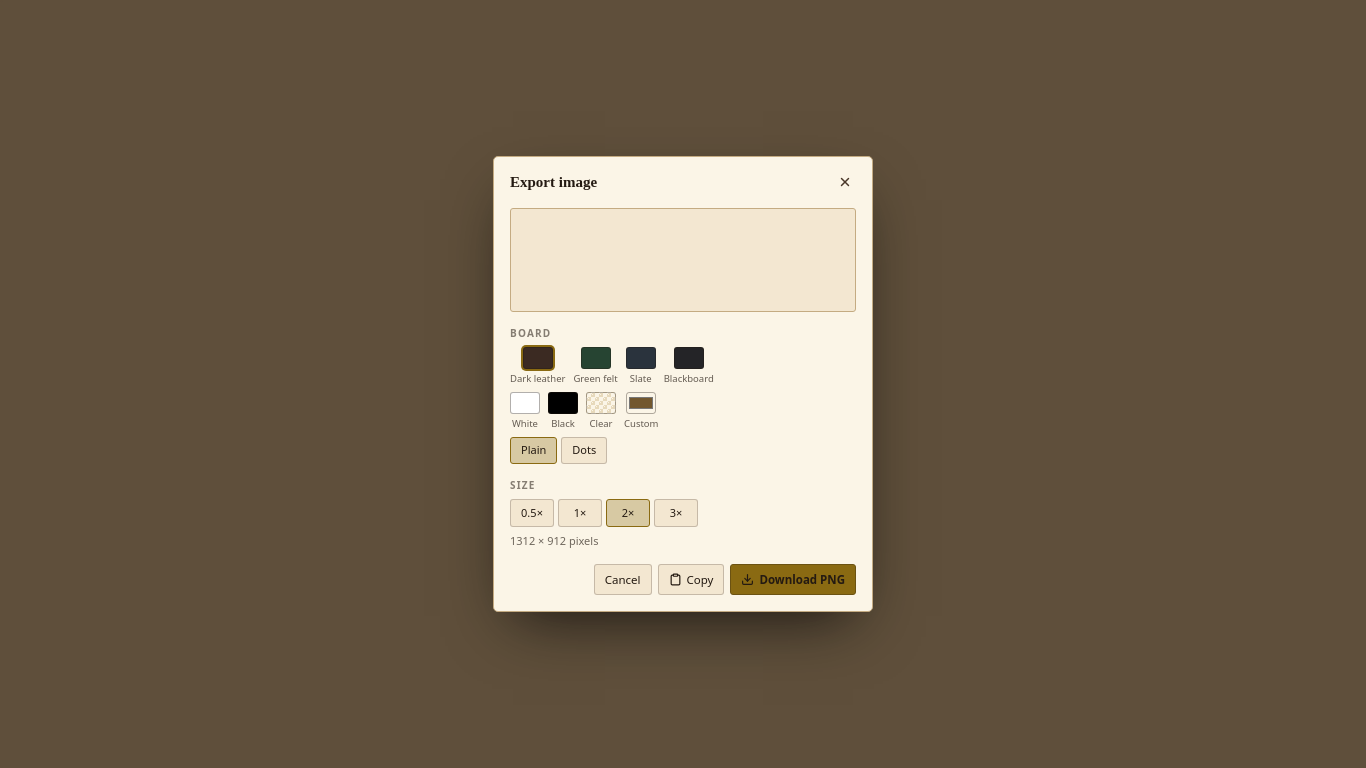
Test: the export dialog › says the clipboard would not take it, rather than claiming a copy
This screenshot has width=1366, height=768.
Click the button with test id "export-copy" at (691, 579), box [658, 564, 724, 595]
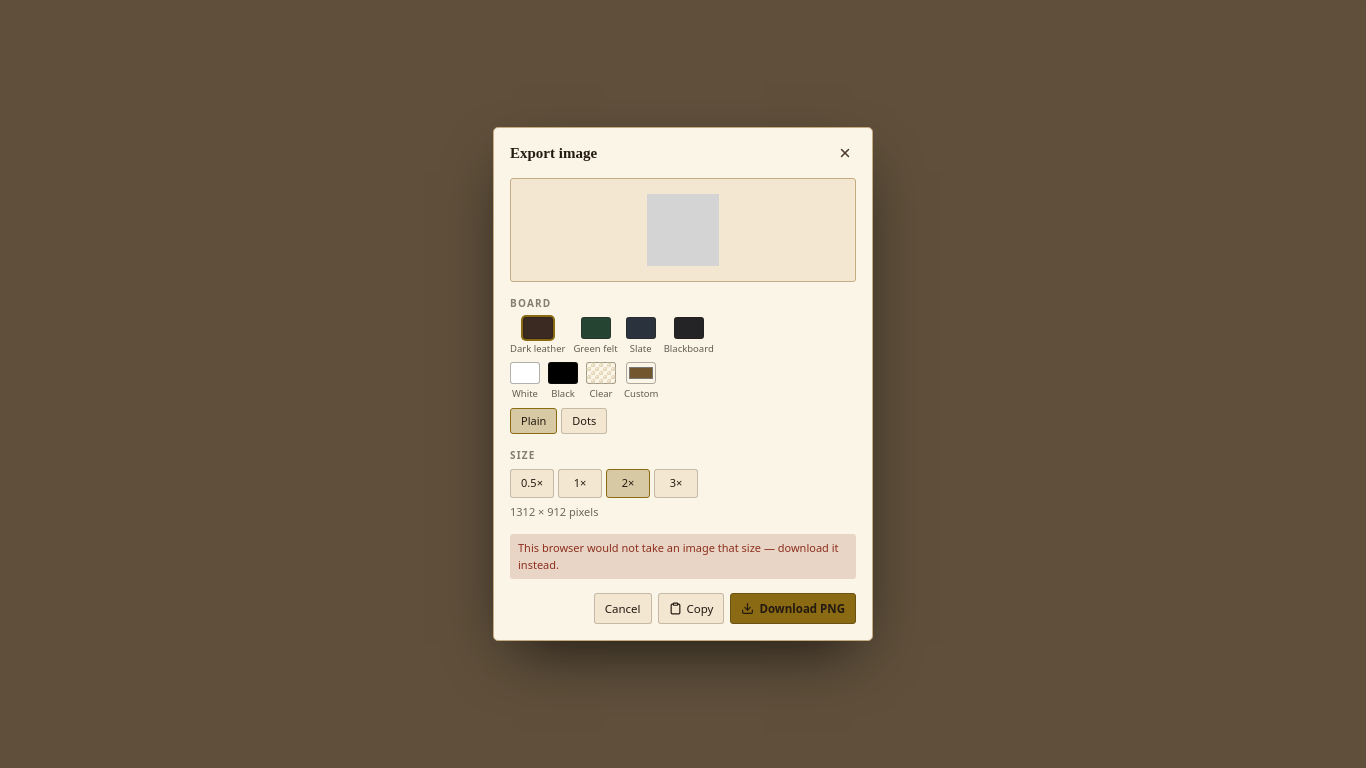
Now the message shows "download it instead", box [518, 540, 838, 572]
